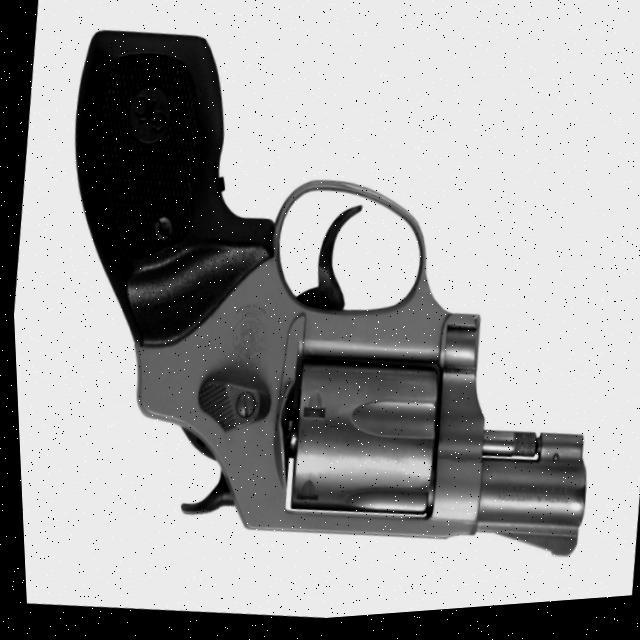pistol: (19, 0, 635, 598)
